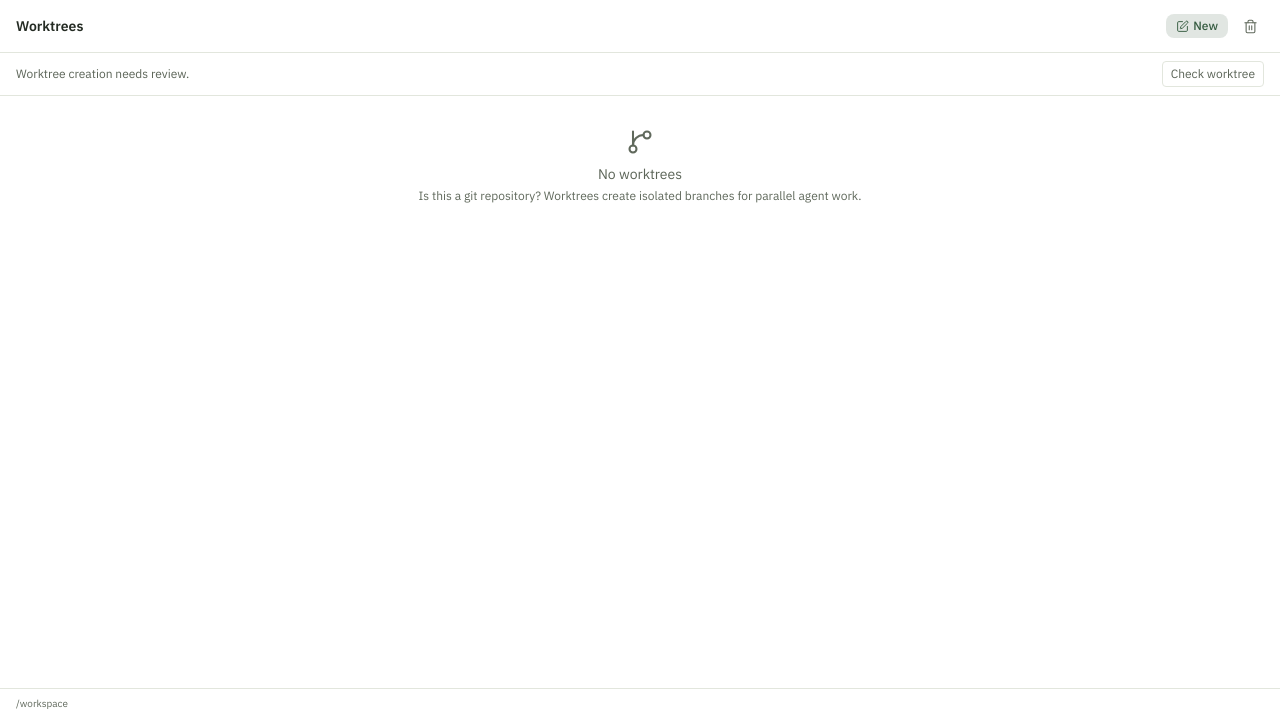
Test case: checks a recovered uncertain operation without posting another creation
The image size is (1280, 720).
Click the button "Check worktree".
click(1213, 74)  # box [1162,61,1264,87]
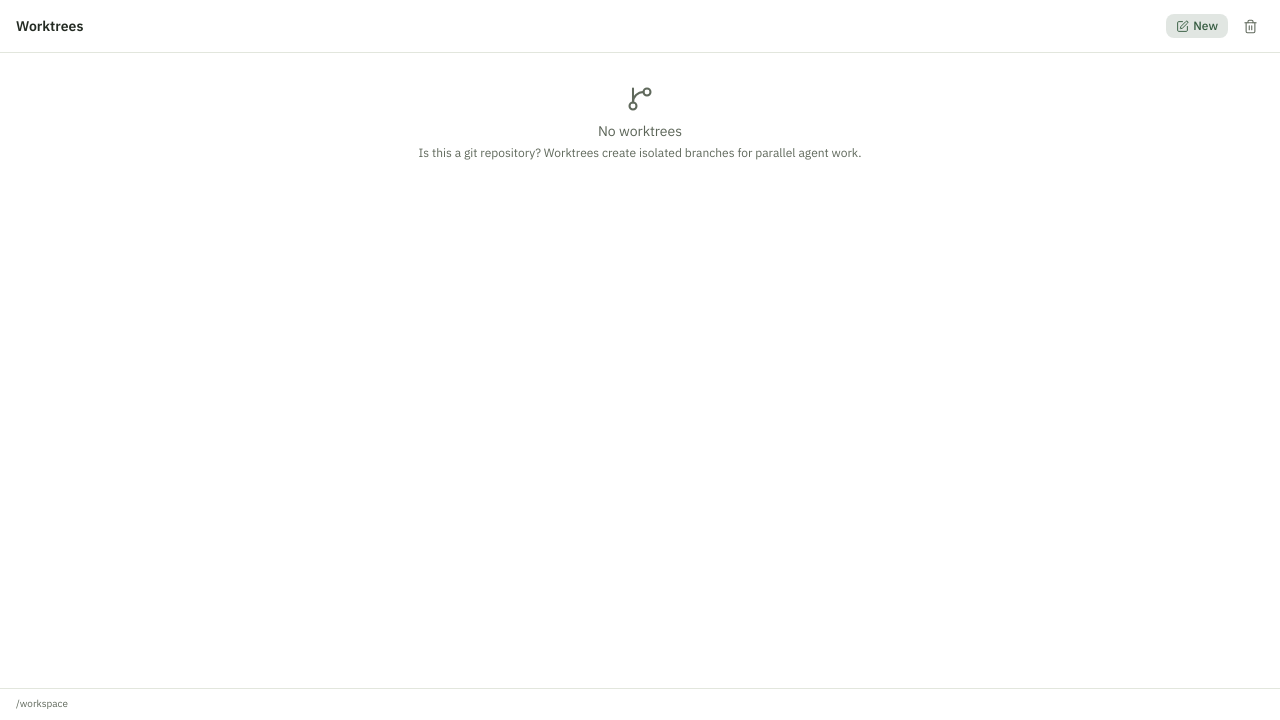
Now the text "Worktree creation needs review." is gone
